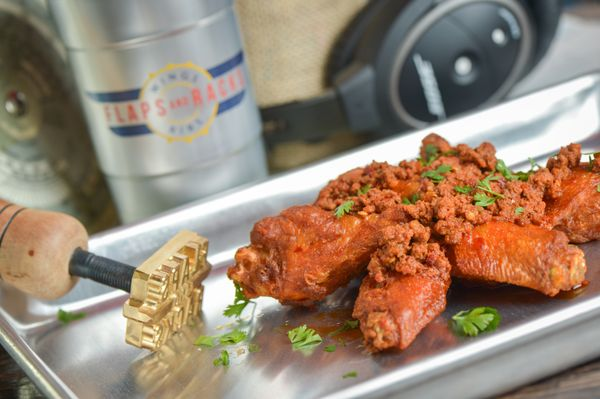pizza: (49, 0, 270, 226)
